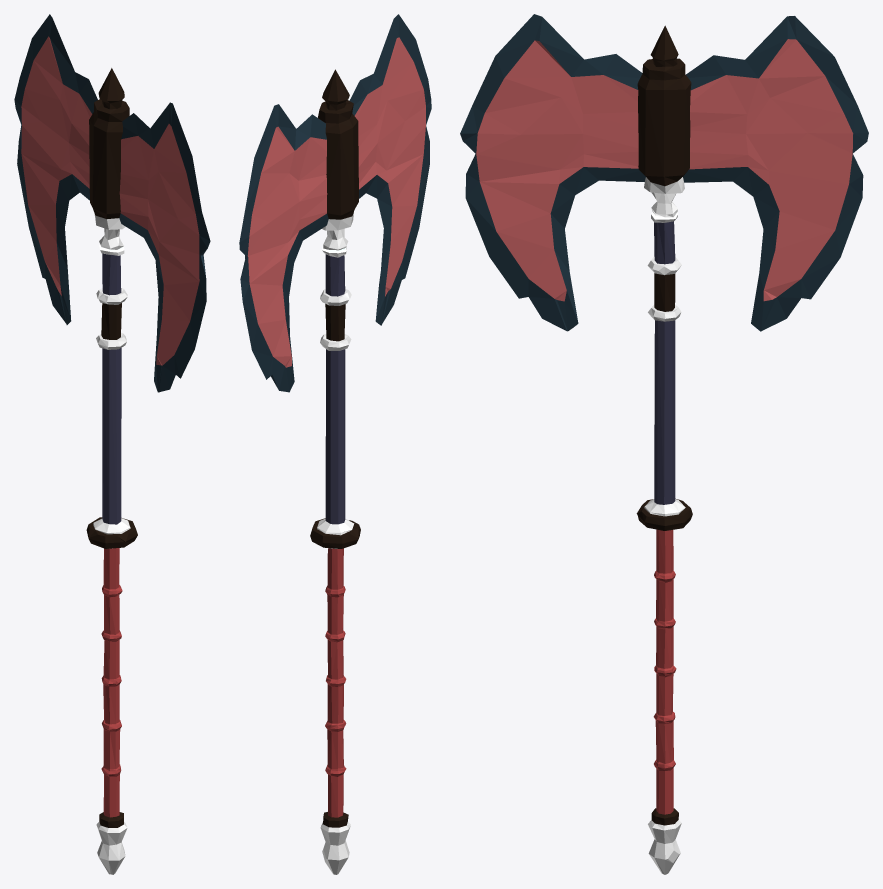
File: SFFA_Weapon_Axe_Gold_005.fbx
The picture shows the model from 3 angles, left to right: view 1: azimuth 30°, elevation 25°; view 2: azimuth 150°, elevation 25°; view 3: azimuth 270°, elevation 25°; orthographic projection. The views are drawn at different scales.
Parts seen in each view (by area): view 1: SFFA_Weapon_Axe_Gold_005; view 2: SFFA_Weapon_Axe_Gold_005; view 3: SFFA_Weapon_Axe_Gold_005.
Boxes of the visible parts, x1=… form: SFFA_Weapon_Axe_Gold_005: x1=14, y1=14, x2=210, y2=874; SFFA_Weapon_Axe_Gold_005: x1=239, y1=14, x2=431, y2=874; SFFA_Weapon_Axe_Gold_005: x1=460, y1=14, x2=868, y2=874.
Size of the model in its own units: 8.5 by 143 by 61.84.
